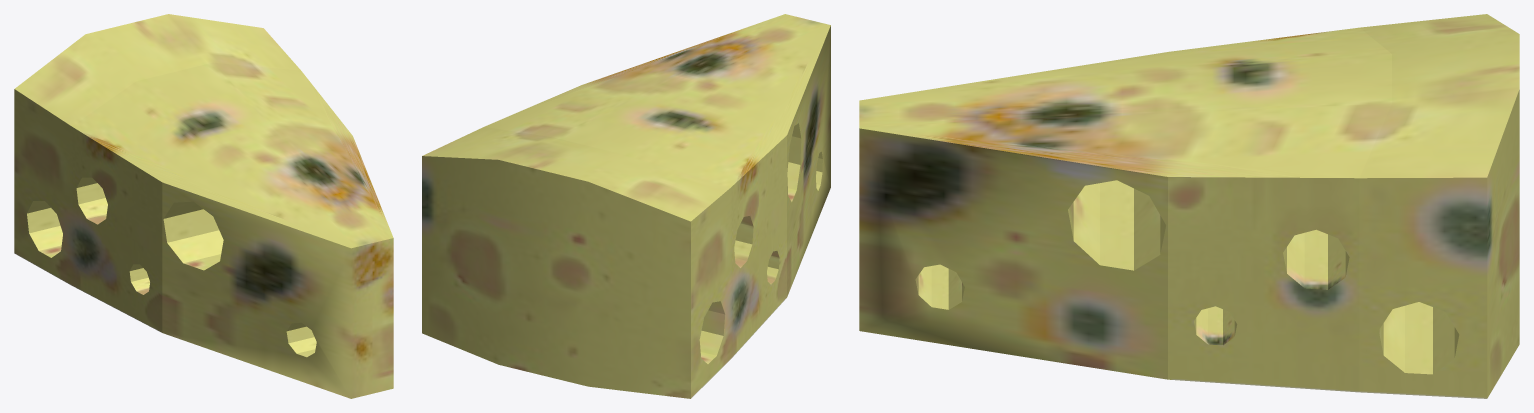
File: pickup_cheese.fbx
3 views of the same model, side by side, from view 1: azimuth 30°, elevation 25°; view 2: azimuth 150°, elevation 25°; view 3: azimuth 270°, elevation 25° (orthographic). The views are drawn at different scales.
Visible parts, largest first — view 1: polySurface5; view 2: polySurface5; view 3: polySurface5.
Part boxes in pixels (left/top/right/bottom): polySurface5: left=14, top=14, right=393, bottom=398; polySurface5: left=422, top=14, right=830, bottom=398; polySurface5: left=859, top=14, right=1519, bottom=398.
Size of the model in its own units: 21.02 by 15.31 by 35.84.
1 material, 1 textured.
